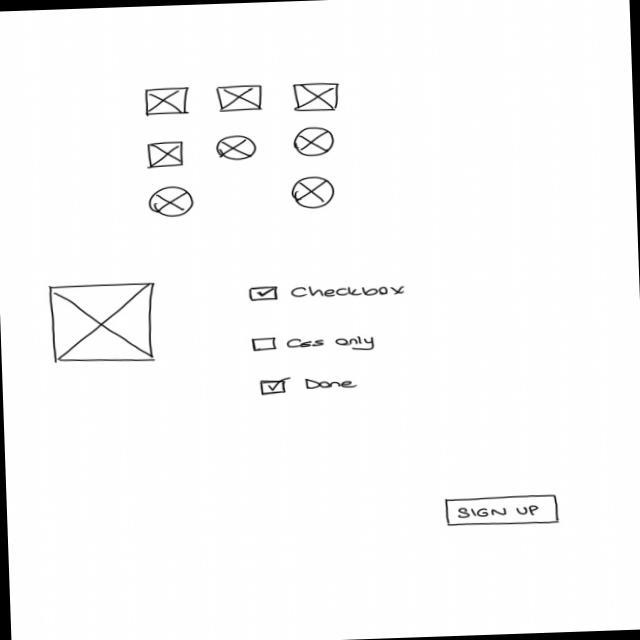button: (444, 493, 560, 527)
checkbox: (246, 280, 409, 302), (251, 331, 380, 357), (258, 373, 359, 397)
image: (47, 281, 158, 365), (290, 173, 336, 210), (146, 185, 194, 218), (291, 81, 339, 112), (144, 86, 190, 116), (215, 84, 262, 112), (292, 125, 334, 156), (145, 140, 186, 170), (216, 134, 256, 162)
